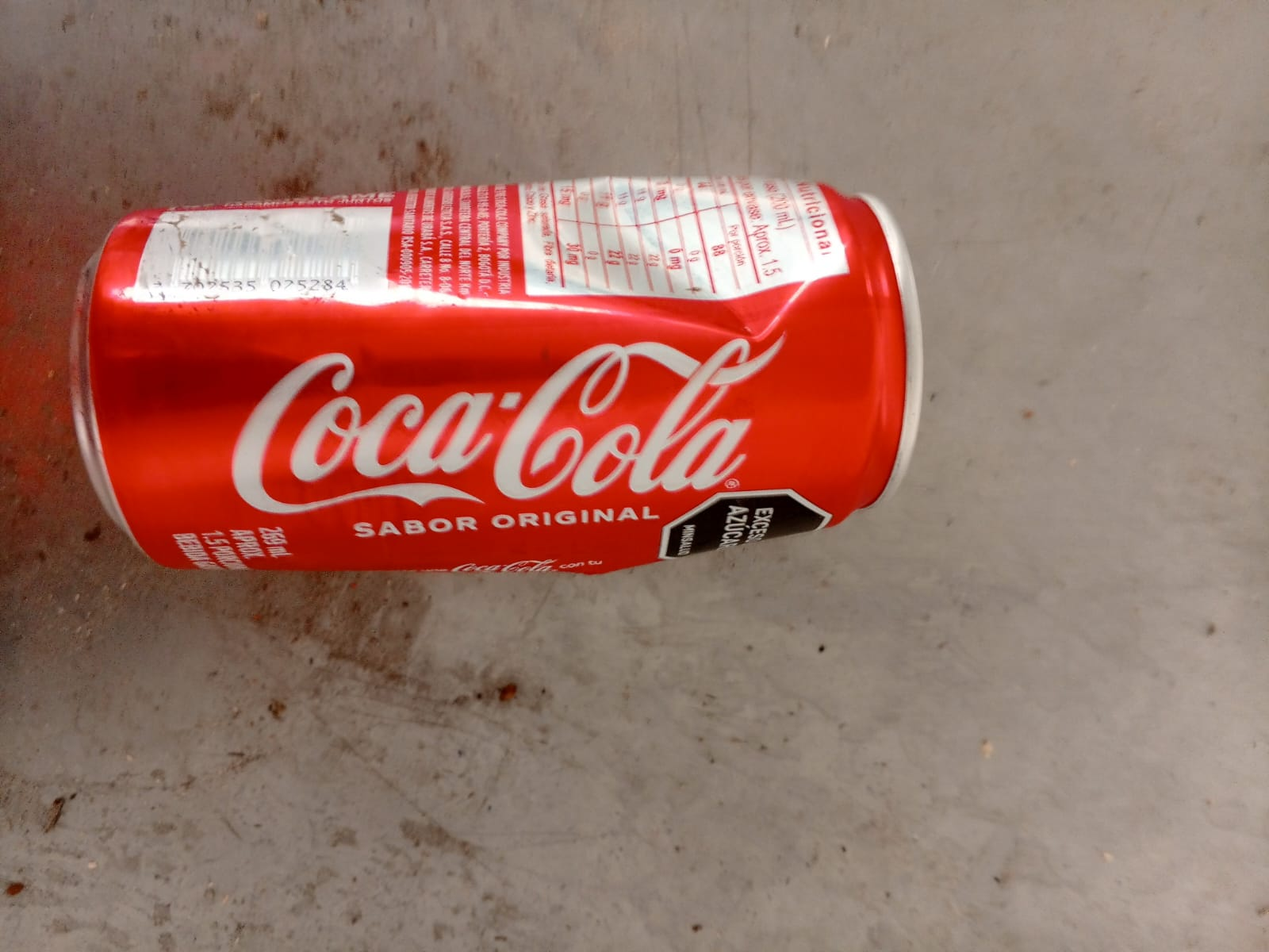Metal: (70, 178, 921, 578)
